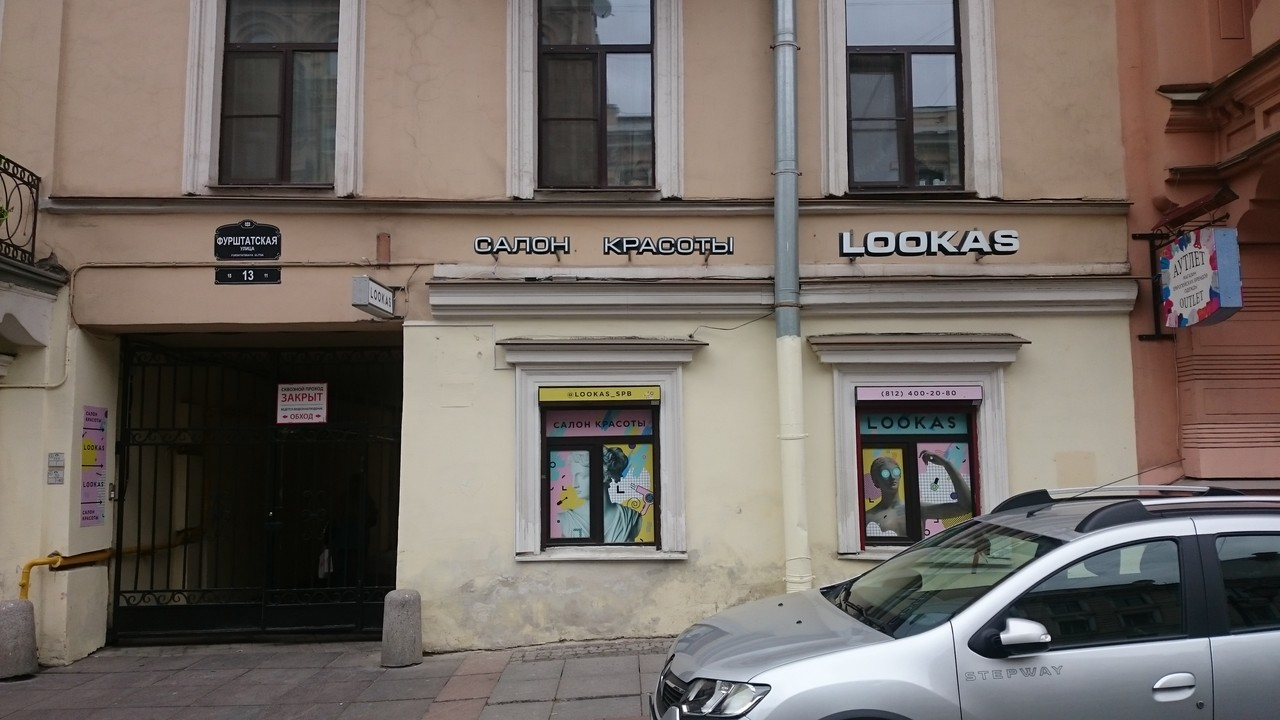arch: (73, 322, 398, 655)
cantilever: (1130, 217, 1243, 345), (349, 274, 405, 317)
signboard: (473, 233, 736, 260), (839, 228, 1020, 259)
window: (847, 1, 968, 191), (539, 1, 658, 187), (861, 383, 985, 545), (226, 1, 335, 182), (543, 387, 661, 546)
